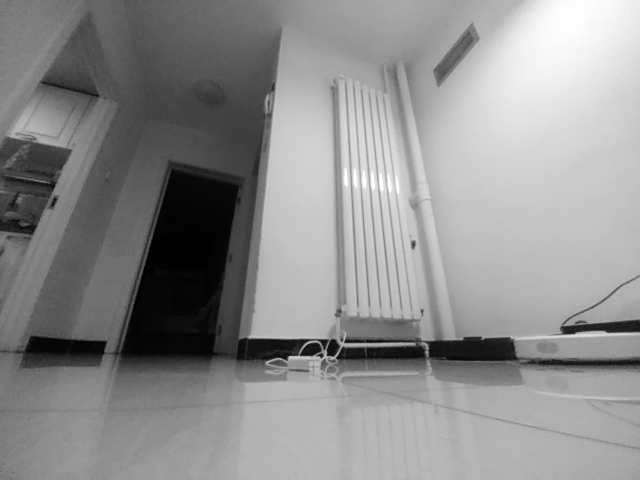wire: (266, 328, 349, 370)
